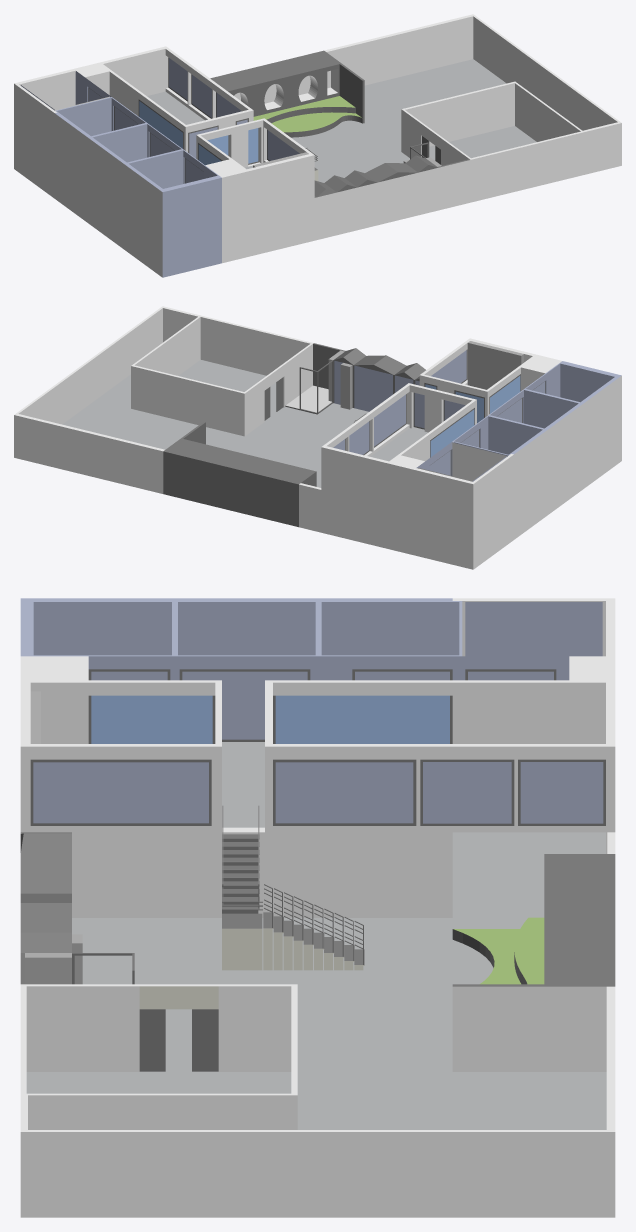
3 views of the same model, one above another, from view 1: azimuth 30°, elevation 25°; view 2: azimuth 150°, elevation 25°; view 3: azimuth 270°, elevation 25° (orthographic). The views are drawn at different scales.
Visible parts, largest first — view 1: SubPart 1, 3DGeom-5, 3DGeom-4; view 2: SubPart 1, 3DGeom-5, Basic Wall [2758], 3DGeom-4, Basic Wall [2738]; view 3: SubPart 1, 3DGeom-5, 3DGeom-4, 3DGeom-3, Basic Wall [2739].
Boxes of the visible parts, x1=… form: SubPart 1: x1=14, y1=14, x2=621, y2=277; 3DGeom-5: x1=88, y1=50, x2=470, y2=197; 3DGeom-4: x1=307, y1=149, x2=438, y2=197; SubPart 1: x1=14, y1=306, x2=621, y2=569; 3DGeom-5: x1=163, y1=343, x2=545, y2=527; Basic Wall [2758]: x1=467, y1=341, x2=523, y2=389; 3DGeom-4: x1=333, y1=348, x2=415, y2=420; Basic Wall [2738]: x1=340, y1=363, x2=352, y2=409; SubPart 1: x1=20, y1=598, x2=615, y2=1217; 3DGeom-5: x1=20, y1=669, x2=615, y2=1071; 3DGeom-4: x1=20, y1=813, x2=364, y2=964; 3DGeom-3: x1=222, y1=805, x2=334, y2=952; Basic Wall [2739]: x1=25, y1=953, x2=71, y2=984.
Size of the model in its own units: 20.15 by 3.71 by 11.3.
